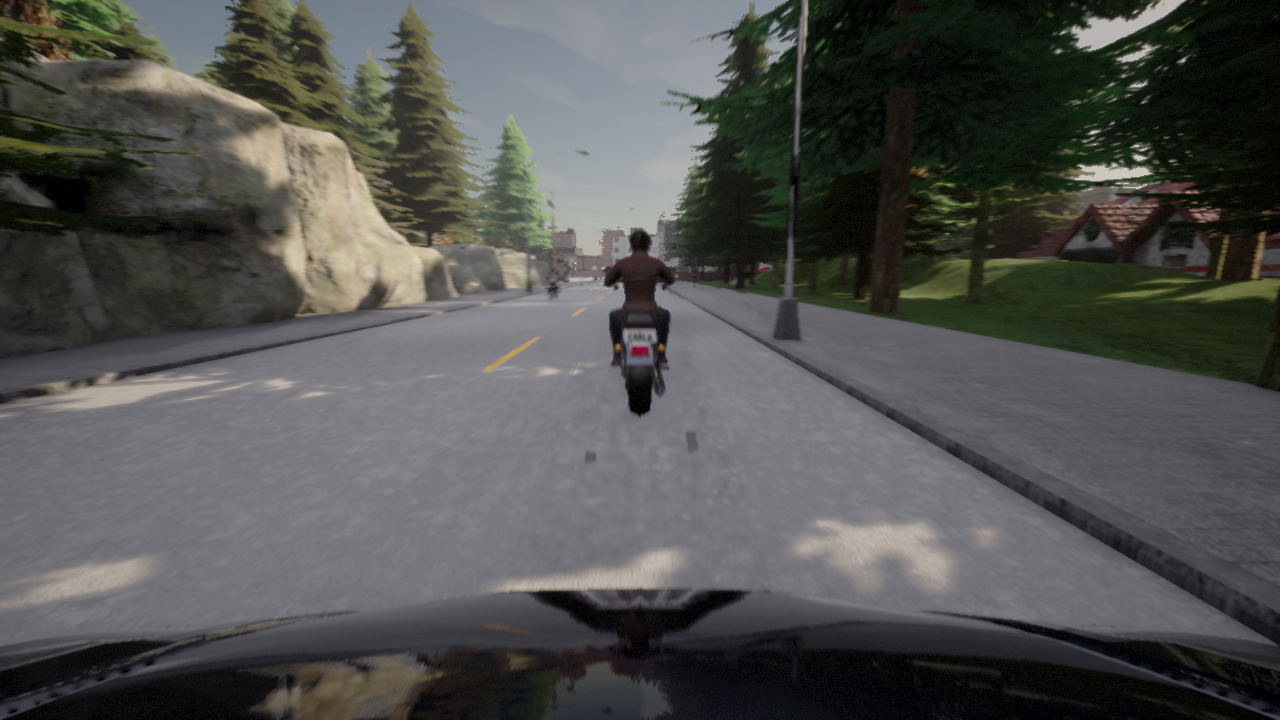cyclist: (0, 588, 1279, 719), (603, 267, 676, 416), (542, 273, 560, 300), (675, 273, 677, 274)
pedestrian: (691, 263, 698, 288)
